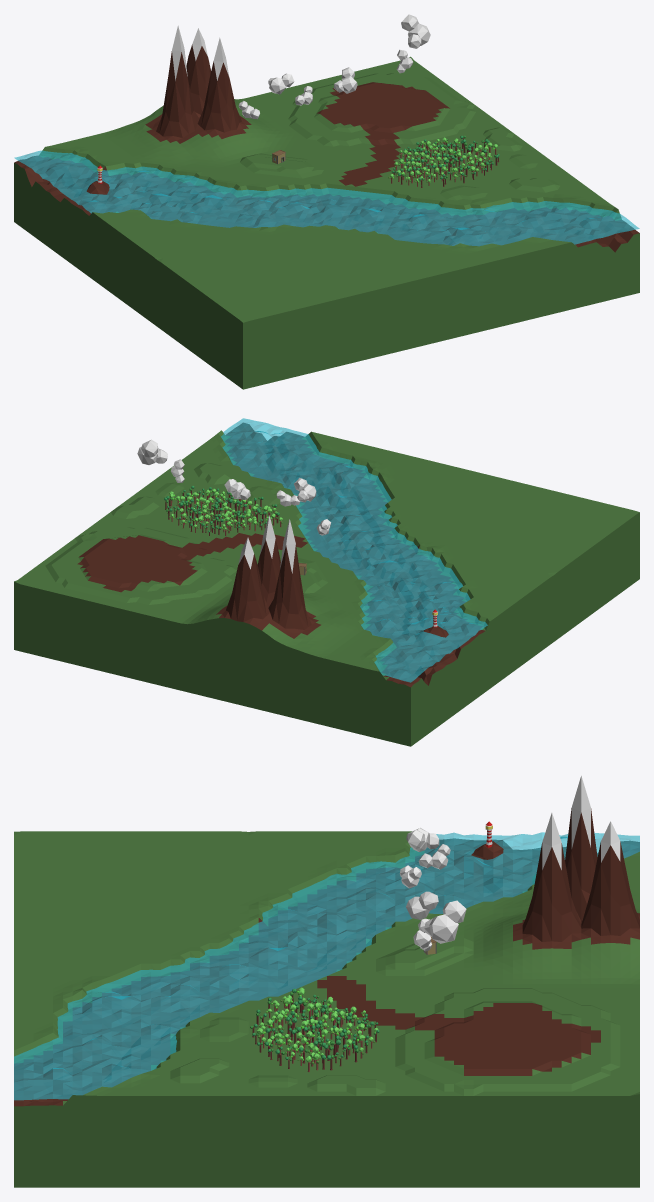
The model's file is de_map_v1.fbx.
3 views of the same model, one above another, from view 1: azimuth 30°, elevation 25°; view 2: azimuth 150°, elevation 25°; view 3: azimuth 270°, elevation 25° (orthographic). The views are drawn at different scales.
Visible parts, largest first — view 1: Cube, Cube.002; view 2: Cube, Cube.002; view 3: Cube, Cube.002, Icosphere.451.
Part boxes in pixels (<box>): Cube: <box>14,25,639,389</box>; Cube.002: <box>14,150,639,246</box>; Cube: <box>14,423,639,746</box>; Cube.002: <box>221,418,487,682</box>; Cube: <box>14,776,639,1187</box>; Cube.002: <box>14,832,639,1100</box>; Icosphere.451: <box>429,914,458,943</box>.
Size of the model in its own units: 1404 by 601 by 1404.
